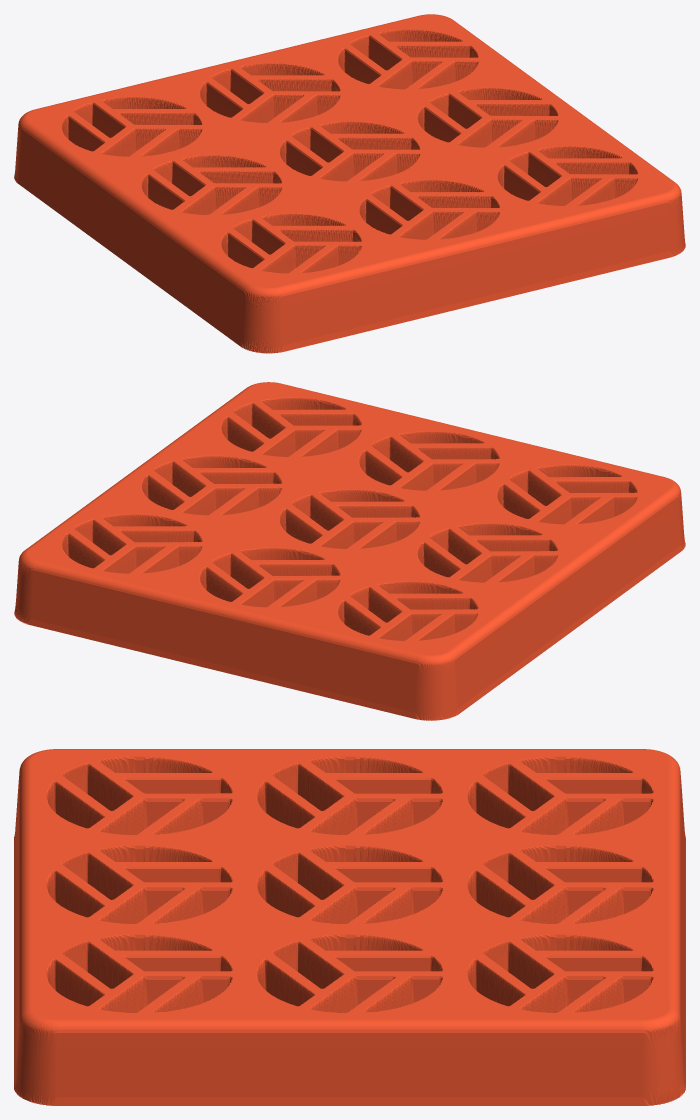
File: mold.glb
3 renders of one model, top to bottom at view 1: azimuth 30°, elevation 25°; view 2: azimuth 150°, elevation 25°; view 3: azimuth 270°, elevation 25°, orthographic. The views are drawn at different scales.
Visible parts, largest first — view 1: geometry_0; view 2: geometry_0; view 3: geometry_0.
Part boxes in pixels (bbox=[...]): geometry_0: bbox=[14, 14, 685, 353]; geometry_0: bbox=[14, 382, 685, 720]; geometry_0: bbox=[14, 749, 685, 1105].
Bounding box in the file's own units: 0.1402 × 0.0182 × 0.1402.
